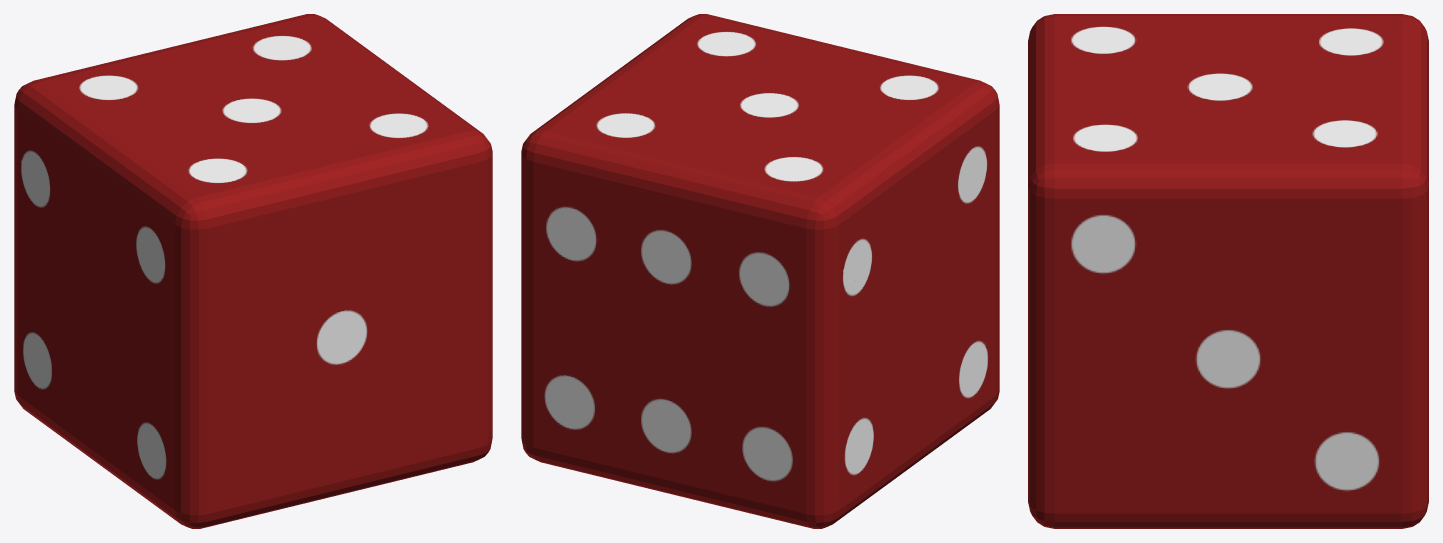
File: Dice Number Textured 4.fbx
The picture shows the model from 3 angles, left to right: view 1: azimuth 30°, elevation 25°; view 2: azimuth 150°, elevation 25°; view 3: azimuth 270°, elevation 25°; orthographic projection. The views are drawn at different scales.
Parts seen in each view (by area): view 1: Cube; view 2: Cube; view 3: Cube.
Part boxes in pixels (x1,y1,x2,y2): Cube: (14, 14, 492, 528); Cube: (521, 14, 999, 528); Cube: (1028, 14, 1428, 528).
Size of the model in its own units: 200 by 200 by 200.
1 material, 1 textured.
